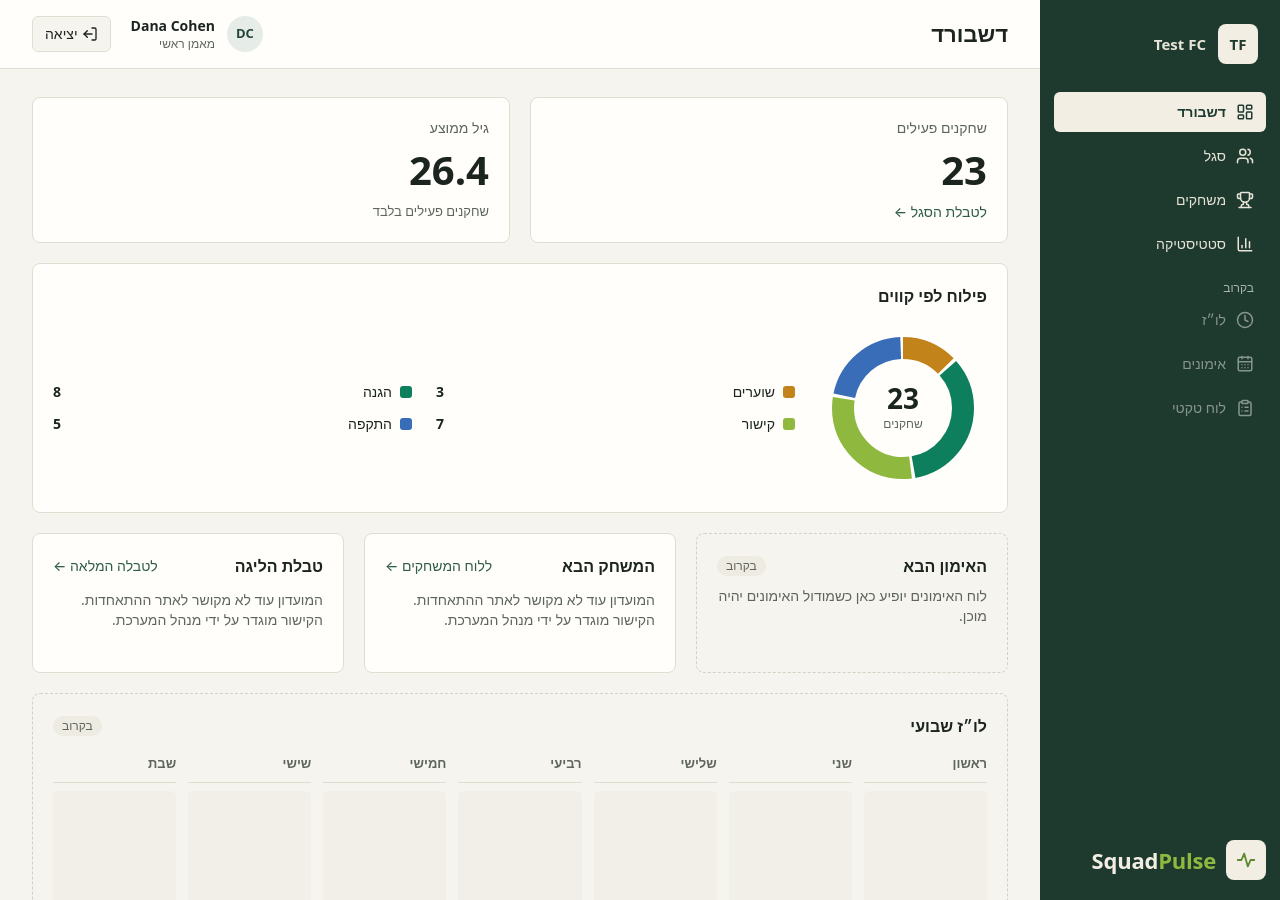
Test case: the dashboard's squad cards › link to the squad table
The image size is (1280, 900).
Expected: the heading "דשבורד" is shown, [931,20,1008,48]
Expected: the element "פילוח לפי קווים" is shown, [32,263,1008,513]
Click the link "לטבלת הסגל ←": (940, 212) [894,202,987,222]
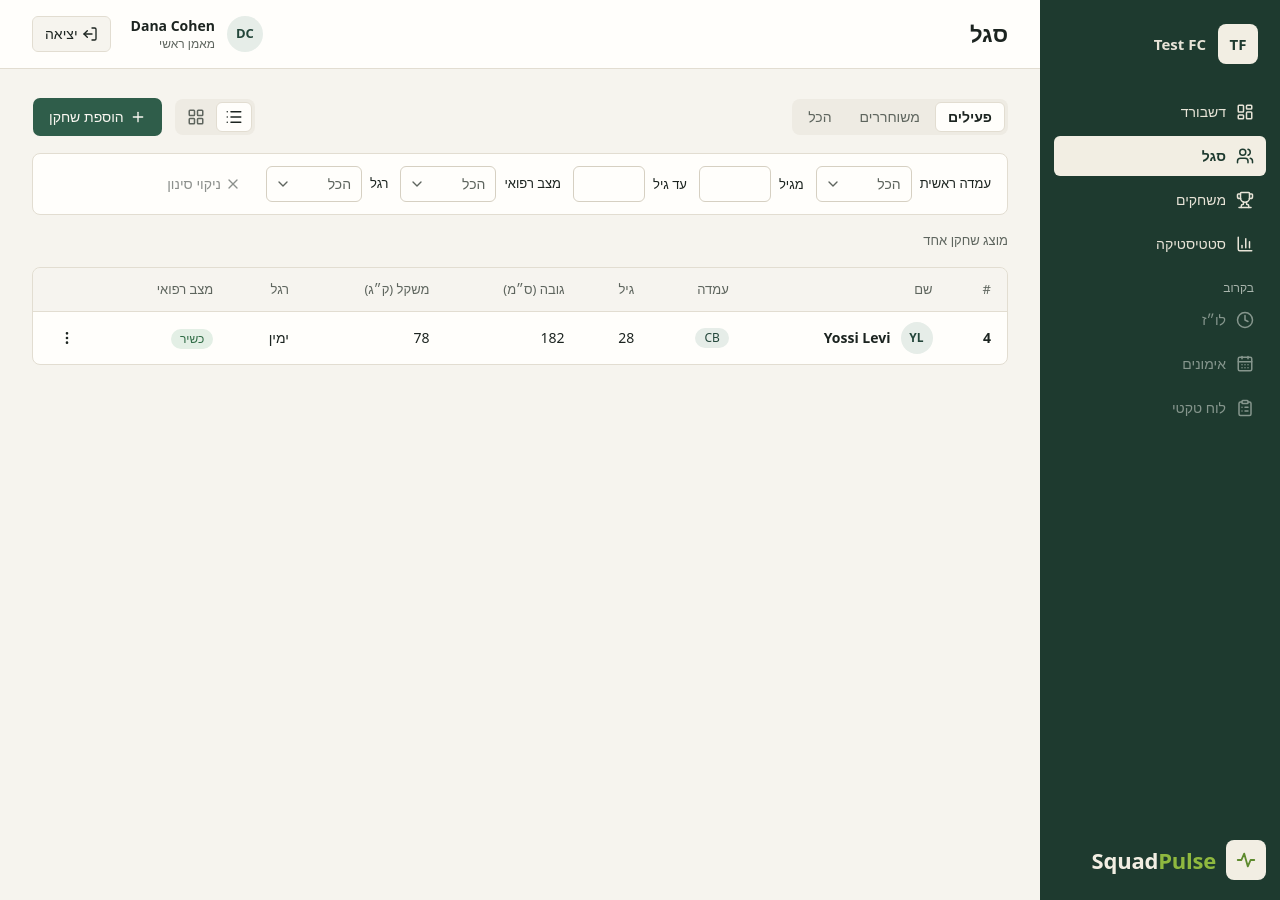
Expected: the heading "סגל" is shown, [970,20,1008,48]
Expected: the link "Yossi Levi" is shown, [824,328,890,348]
